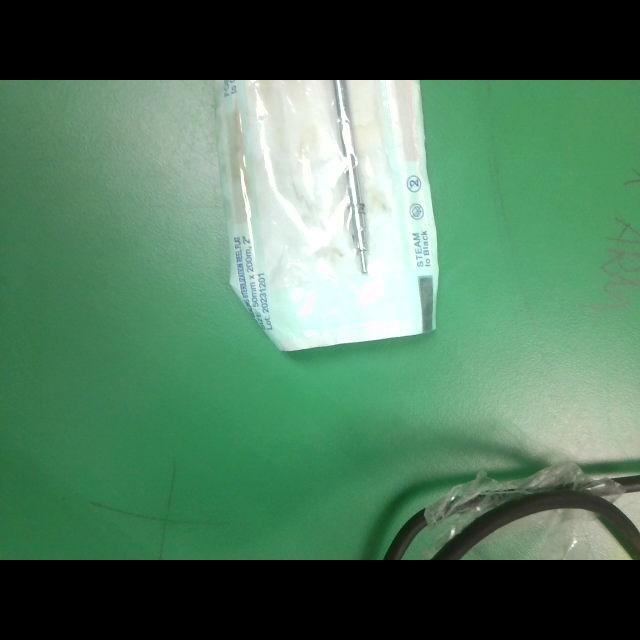triple_syringe: (330, 80, 370, 274)
